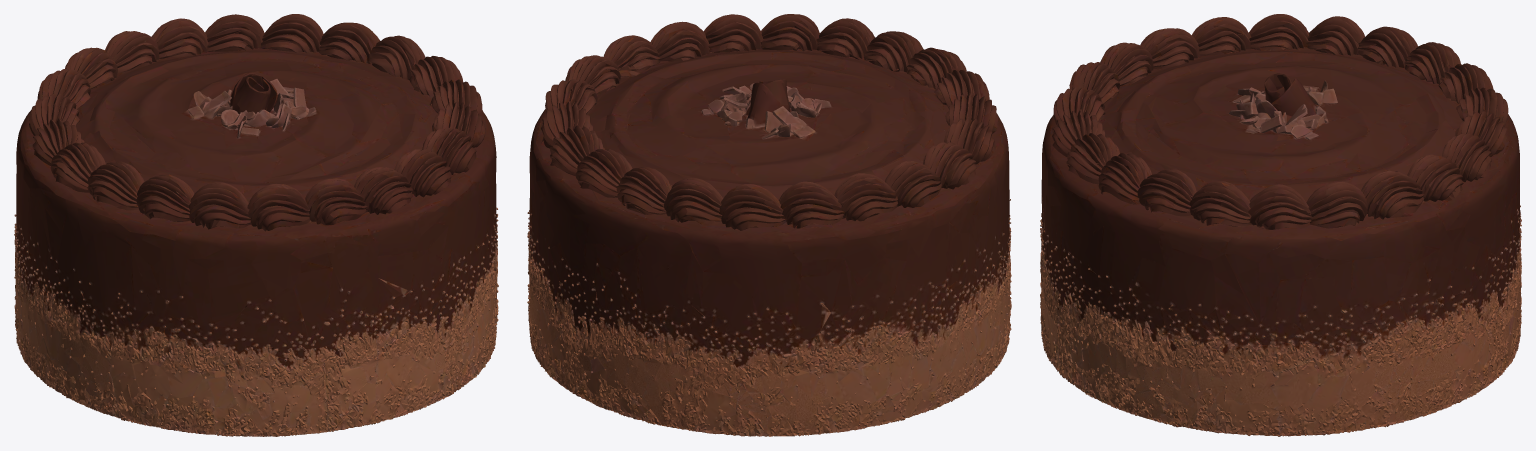
File: chocolate_cake.glb
3 renders of one model, left to right at view 1: azimuth 30°, elevation 25°; view 2: azimuth 150°, elevation 25°; view 3: azimuth 270°, elevation 25°, orthographic.
Visible parts, largest first — view 1: output_unwrapped; view 2: output_unwrapped; view 3: output_unwrapped.
Boxes of the visible parts, <box> form: output_unwrapped: <box>14,14,498,436</box>; output_unwrapped: <box>527,14,1011,436</box>; output_unwrapped: <box>1040,14,1521,436</box>.
Size of the model in its own units: 1.9 by 1.13 by 1.9.
Materials: 1 (1 with a texture image).
